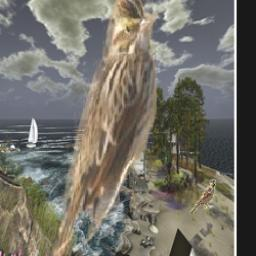Sparrow: (50, 0, 158, 256), (189, 179, 216, 213)
